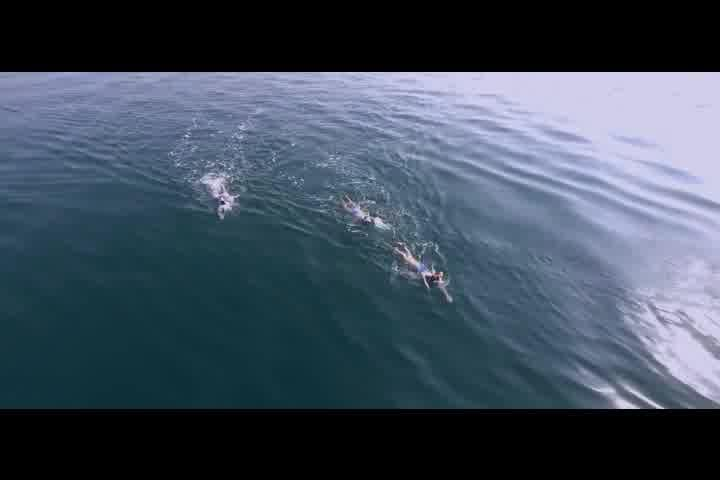human: (389, 244, 448, 302), (341, 191, 380, 234), (207, 183, 246, 218)
